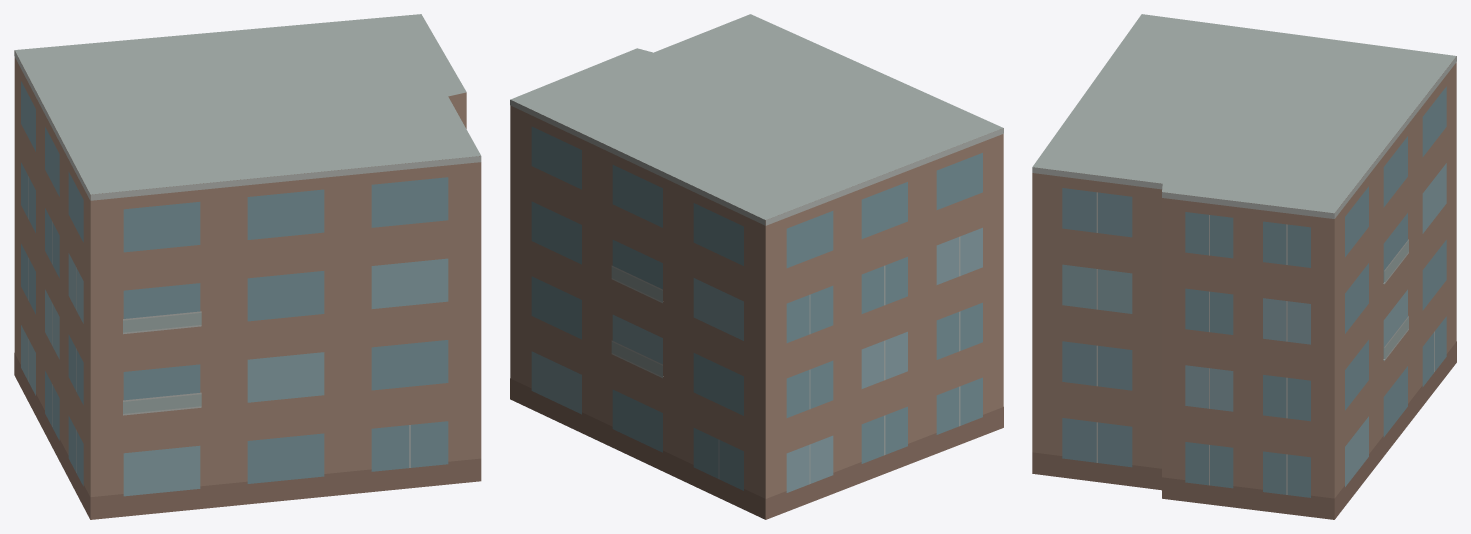
Rendered from survey-upis-32671768.glb.
The picture shows the model from 3 angles, left to right: view 1: azimuth 30°, elevation 25°; view 2: azimuth 150°, elevation 25°; view 3: azimuth 270°, elevation 25°; orthographic projection. The views are drawn at different scales.
Visible parts, largest first — view 1: survey-upis-32671768.tmp; view 2: survey-upis-32671768.tmp; view 3: survey-upis-32671768.tmp.
Part boxes in pixels (x1,y1,x2,y2): survey-upis-32671768.tmp: [14, 14, 481, 519]; survey-upis-32671768.tmp: [510, 14, 1003, 519]; survey-upis-32671768.tmp: [1032, 14, 1456, 519].
Bounding box in the file's own units: 17.85 × 12.8 × 16.07.
